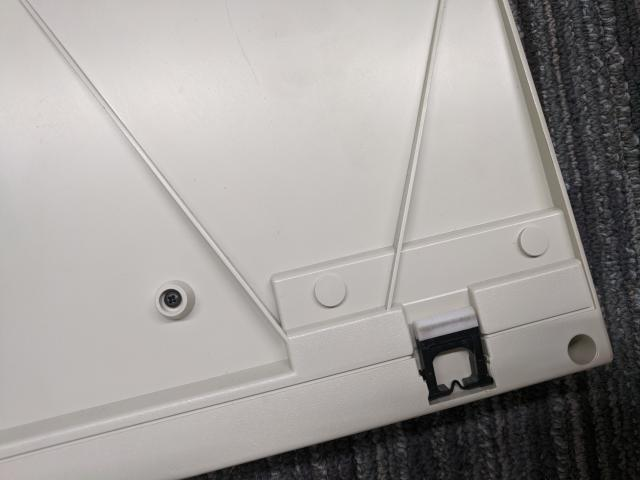CRS: (164, 290, 183, 308)
